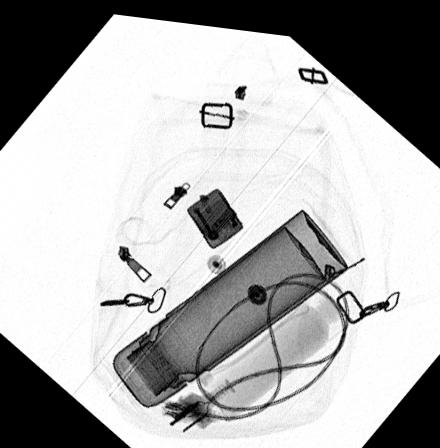Lighter: (184, 181, 243, 243)
